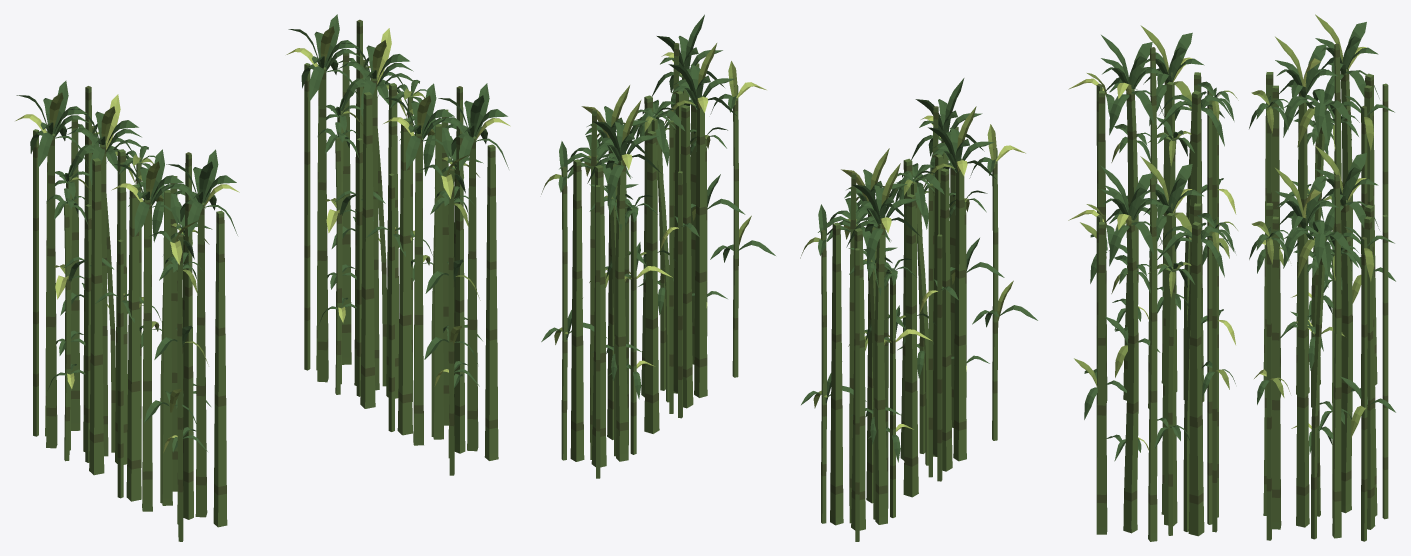
Rendered from side_bamboos.glb.
3 renders of one model, left to right at view 1: azimuth 30°, elevation 25°; view 2: azimuth 150°, elevation 25°; view 3: azimuth 270°, elevation 25°, orthographic. The views are drawn at different scales.
Visible parts, largest first — view 1: bamboos; view 2: bamboos; view 3: bamboos.
Boxes of the visible parts, <box> form: bamboos: <box>15,14,510,541</box>; bamboos: <box>541,14,1037,541</box>; bamboos: <box>1068,14,1395,541</box>.
Size of the model in its own units: 6.6 by 6.22 by 4.97.
